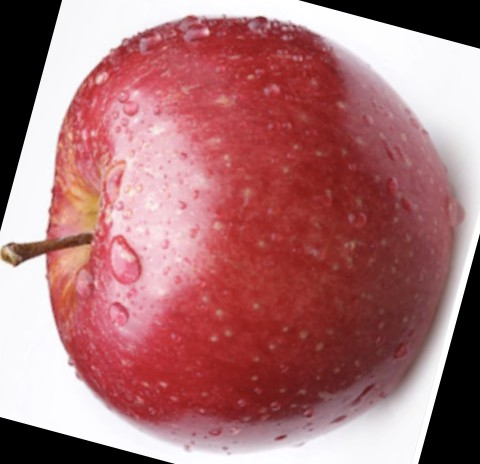fresh_apple: (42, 15, 457, 451)
